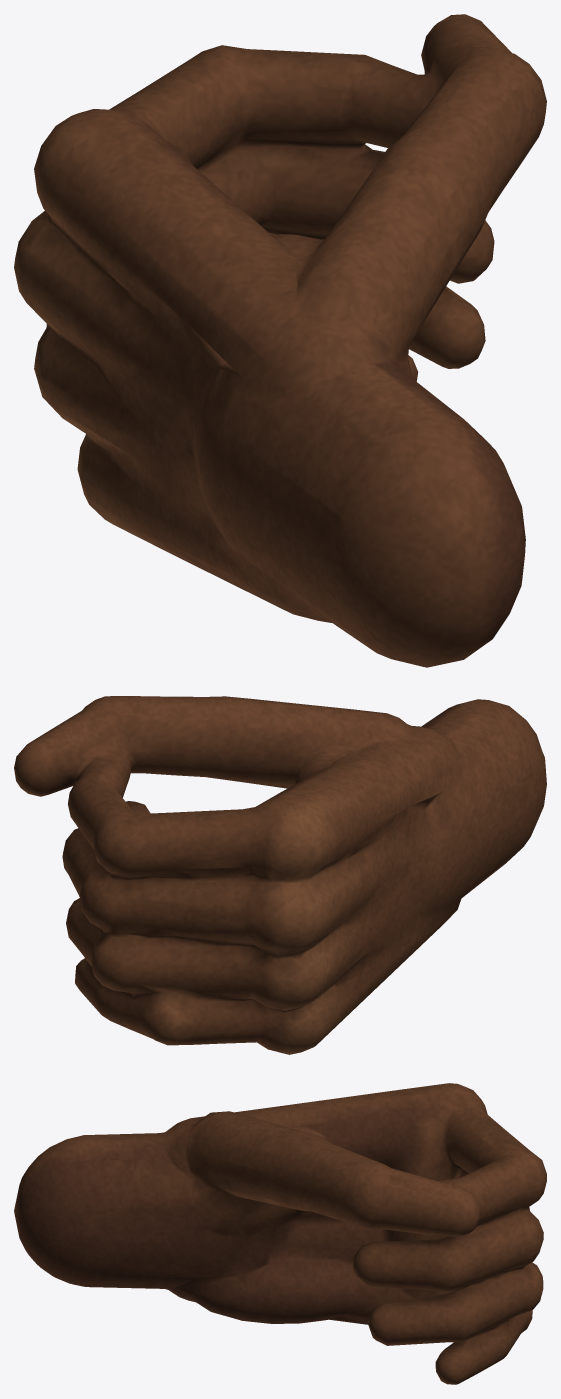
File: fp_hand_storybook.glb
3 renders of one model, top to bottom at view 1: azimuth 30°, elevation 25°; view 2: azimuth 150°, elevation 25°; view 3: azimuth 270°, elevation 25°, orthographic. The views are drawn at different scales.
Visible parts, largest first — view 1: fp_hand; view 2: fp_hand; view 3: fp_hand.
Boxes of the visible parts, box(x1,y1,x2,y2) form: fp_hand: box(14, 14, 546, 667); fp_hand: box(14, 696, 546, 1054); fp_hand: box(14, 1083, 546, 1384).
Size of the model in its own units: 0.1001 by 0.086 by 0.1649.
Materials: 1 (1 with a texture image).
